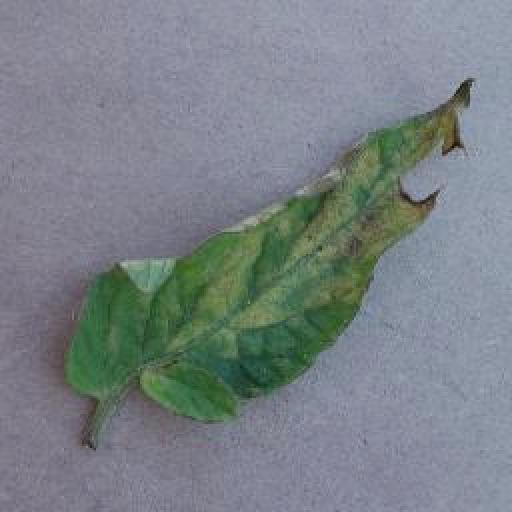disease_tomato: (63, 78, 475, 422)
